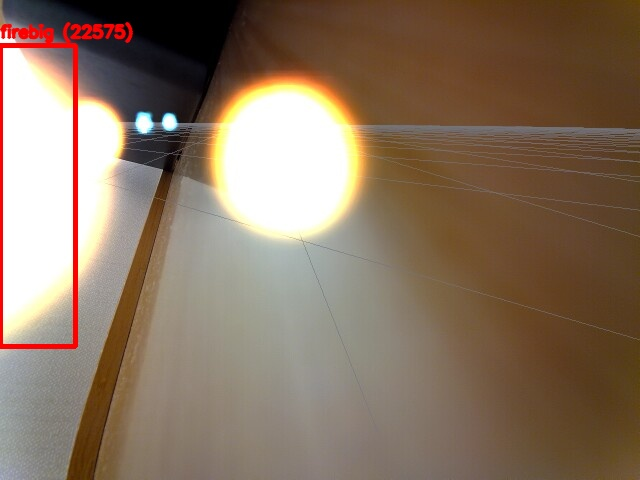firebig: (0, 45, 75, 346)
